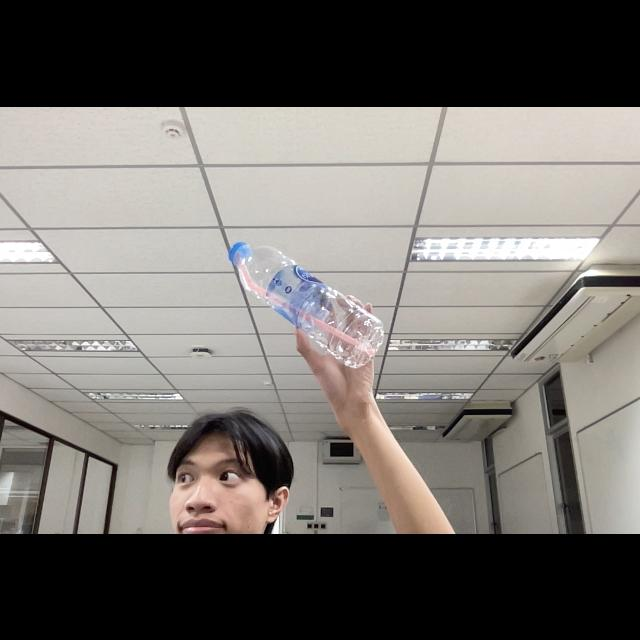plastic_bottle: (224, 231, 386, 371)
